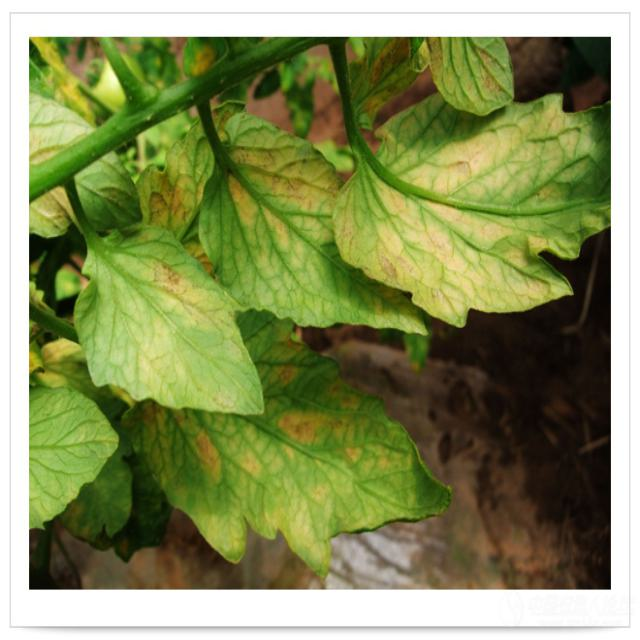Leaf_Mold: (331, 111, 610, 327), (219, 133, 341, 258), (268, 381, 417, 475), (137, 248, 227, 336), (409, 36, 514, 111), (137, 140, 209, 238), (356, 36, 411, 111), (179, 424, 226, 485), (267, 328, 305, 387)
